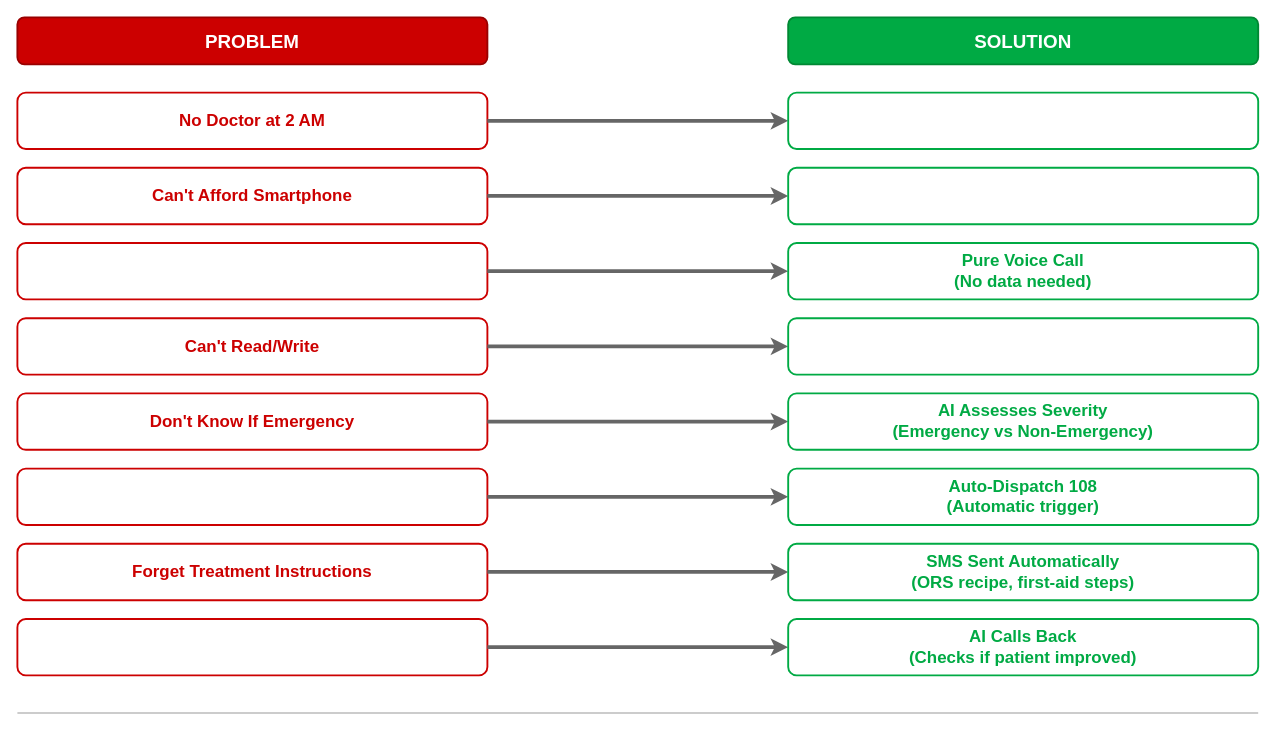
This 1276x730 diagram has some shape labels left out. The box of each missing label's shape, as (x1, y1, x2, y2) in pixels:
AI Triage 24/7 (Bedrock + ICMR): (787, 91, 1259, 149)
No Ambulance Coordination: (16, 467, 488, 525)
No Follow-up Care: (16, 618, 488, 676)
No Internet in Village: (16, 242, 488, 300)
Voice-Only Interface (No literacy required): (787, 317, 1259, 375)
Works on ₹1,500 Feature Phone: (787, 166, 1259, 225)
